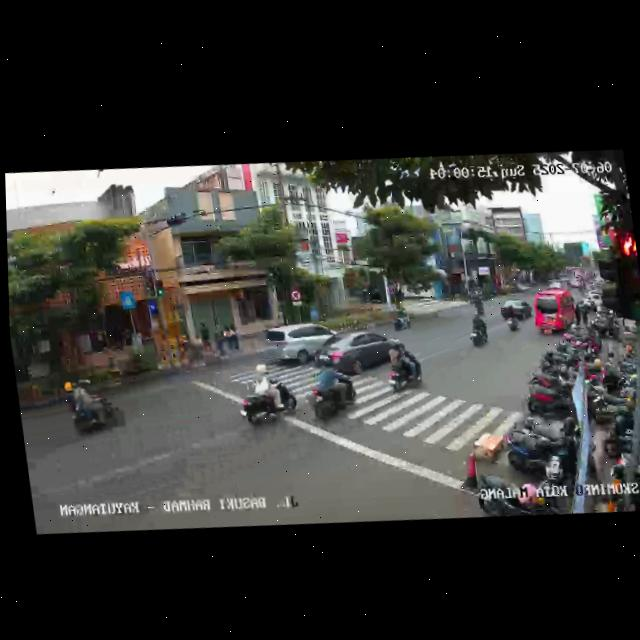car: (318, 322, 401, 385), (262, 316, 342, 371), (522, 359, 577, 424), (530, 286, 581, 339), (498, 295, 531, 322)
motorcycle: (231, 360, 301, 436), (63, 373, 128, 444), (300, 352, 359, 427), (383, 337, 426, 396), (464, 308, 491, 352), (502, 301, 520, 335), (391, 304, 412, 332)
